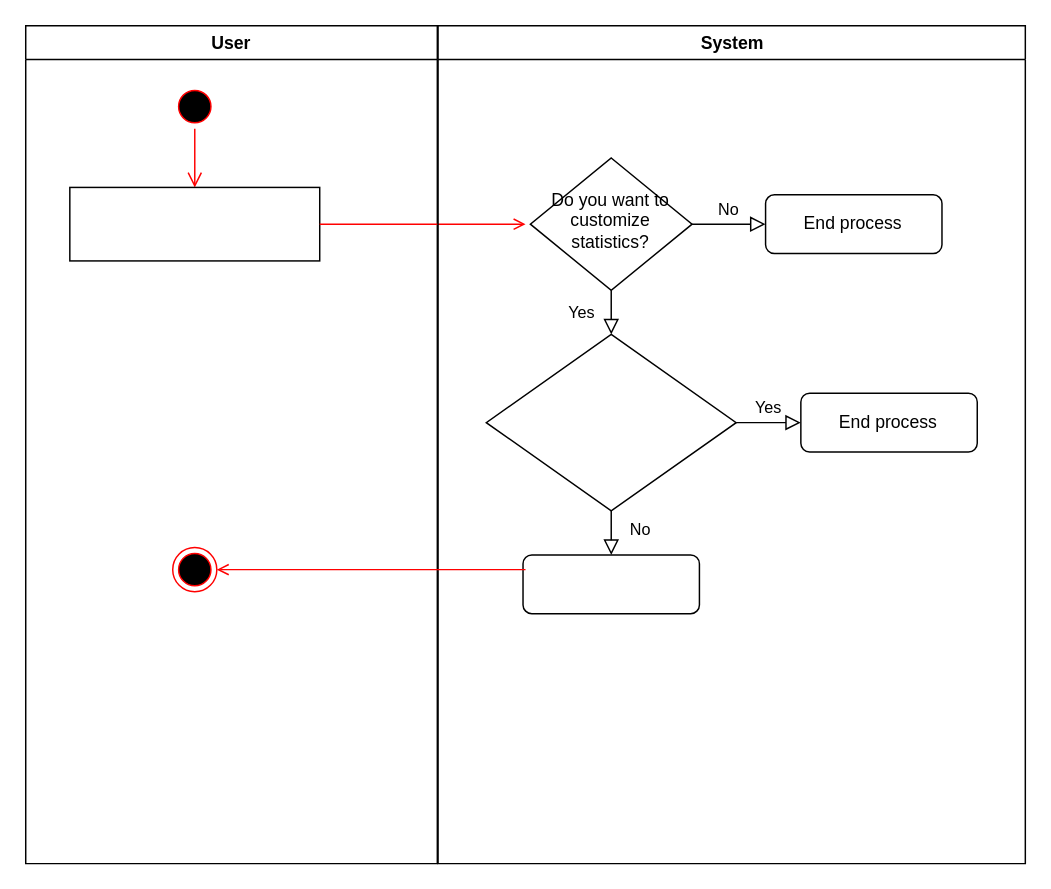
This 1051x889 diagram has some shape labels left out. The centre of each missing label's shape, as x and y in pixels:
Have climate statistics already been customized?: the point at 610,422
Repeat process: the point at 610,583
user logs in: the point at 194,223
